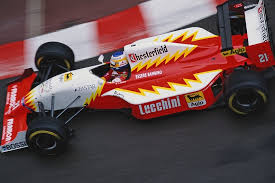f1_car: (2, 1, 275, 162)
